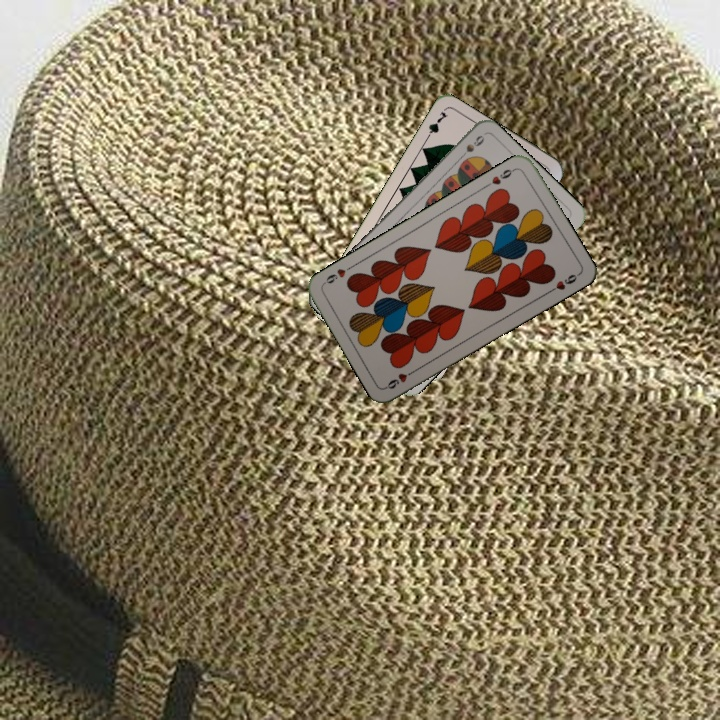G7: (421, 107, 450, 144)
H9: (382, 365, 419, 392), (482, 164, 518, 190)
S9: (454, 131, 487, 163)
